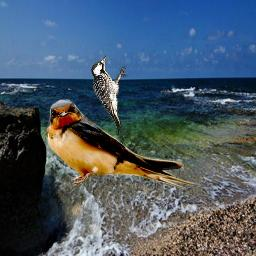Swallow: (44, 99, 200, 195)
Woodpecker: (91, 55, 128, 136)
